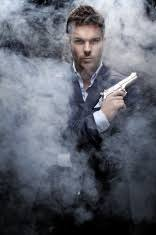gun: (101, 71, 140, 111)
